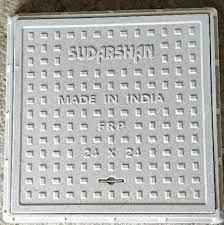closed manhole-not overflowing-: (7, 12, 223, 221)
